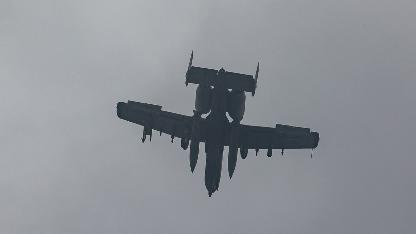A10: (117, 50, 320, 196)
